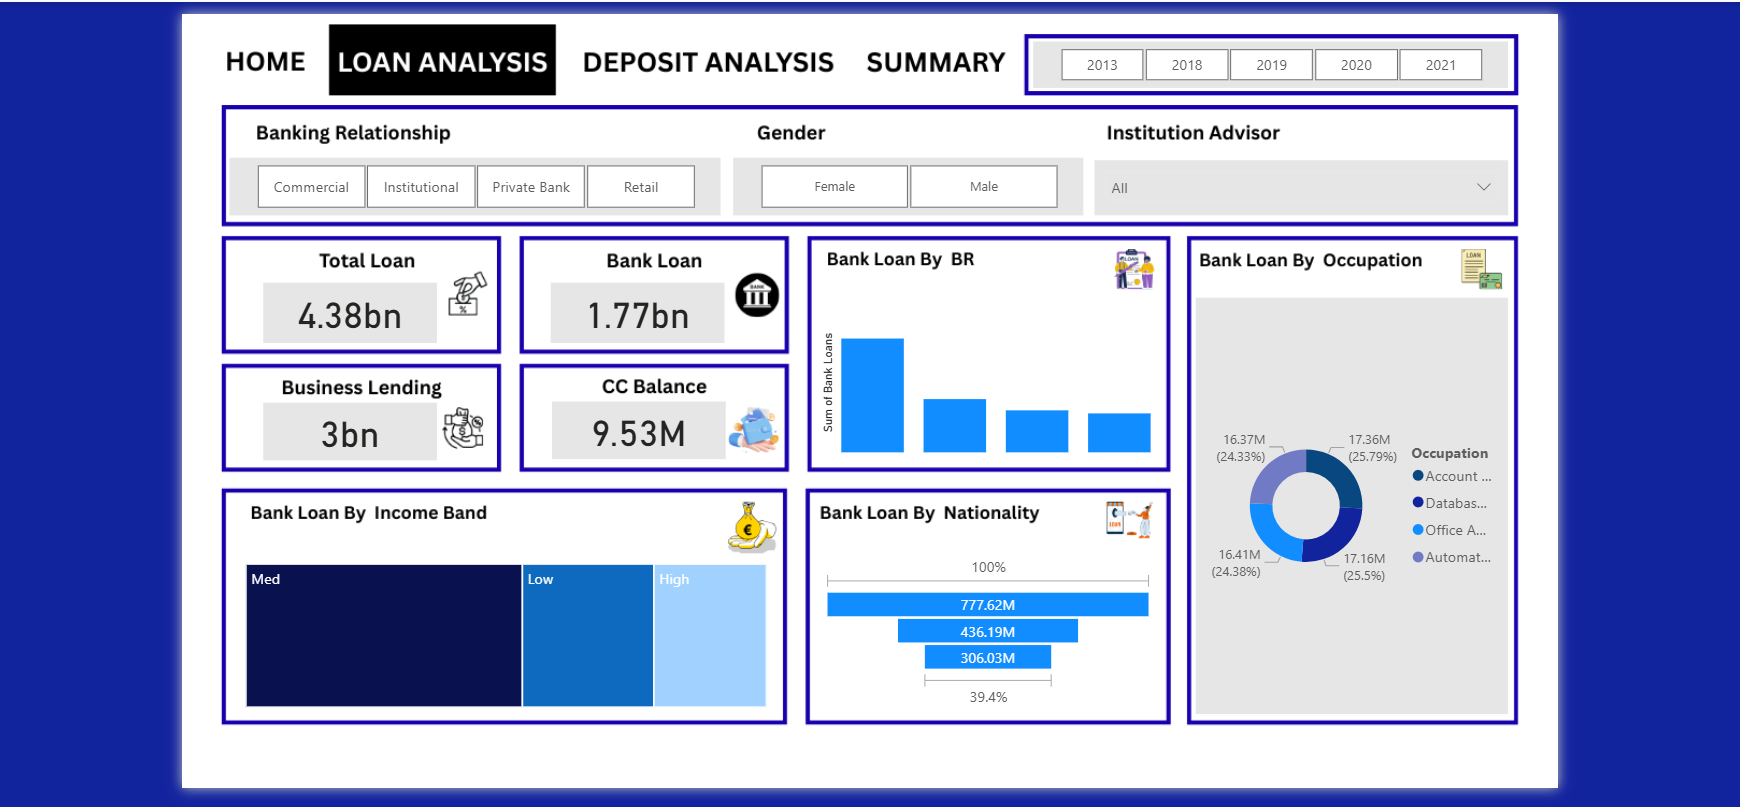

The page's visual inventory and layout, read from the dashboard file:
{"tool":"powerbi","page":{"name":"Loan Analysis","canvas":[1280,720],"ordinal":1},"visuals":[{"type":"slicer","fields":{"Values":["Banking.Year Of Joining"]},"box":[791.3,25.2,441.9,43.2],"z":0},{"type":"actionButton","box":[26.2,24.6,100,40],"z":1000},{"type":"actionButton","box":[629.2,24.6,144.6,40],"z":2000},{"type":"actionButton","box":[369.2,24.6,243.1,40],"z":3000},{"type":"actionButton","box":[142.9,14.3,200,54.3],"z":4000},{"type":"card","fields":{"Values":["Banking.Total Loan"]},"box":[75.6,250,161.6,55.8],"z":5000},{"type":"card","fields":{"Values":["Sum(Banking.Bank Loans)"]},"box":[343,250,161.6,55.8],"z":6000},{"type":"card","fields":{"Values":["Sum(Banking.Credit Card Balance)"]},"box":[344.2,360.5,161.6,53.5],"z":7000},{"type":"card","fields":{"Values":["Sum(Banking.Business Lending)"]},"box":[75.6,361.6,161.6,53.5],"z":8000},{"type":"treemap","fields":{"Group":["Banking.Income Band"],"Values":["Sum(Banking.Bank Loans)"]},"box":[54.7,507,494.2,143],"z":9000},{"type":"clusteredColumnChart","fields":{"Category":["Banking.BRId"],"Y":["Sum(Banking.Bank Loans)"]},"box":[590.7,264,318.6,150],"z":10000},{"type":"funnel","fields":{"Category":["Banking.Nationality"],"Y":["Sum(Banking.Bank Loans)"]},"box":[590.7,497.7,318.6,152.3],"z":10001},{"type":"donutChart","fields":{"Category":["Banking.Occupation"],"Y":["Sum(Banking.Bank Loans)"]},"box":[943,264,290.7,387.2],"z":10002},{"type":"slicer","fields":{"Values":["Banking.BRId"]},"box":[44.2,133.7,457,53.5],"z":10003},{"type":"slicer","fields":{"Values":["Banking.GenderId"]},"box":[512.8,133.7,325.6,53.5],"z":10004},{"type":"slicer","fields":{"Values":["Banking.IAId"]},"box":[848.8,136,384.9,51.2],"z":10005}]}

Visuals, with their boxes on the page's 1280x720 design canvas (x1, y1, x2, y2). These are canvas units, not pixel positions in the 1740x807 screenshot, which may show the page scaled, cropped or inside an application window:
slicer - Banking.Year Of Joining: bbox(791, 25, 1233, 68)
actionButton: bbox(26, 25, 126, 65)
actionButton: bbox(629, 25, 774, 65)
actionButton: bbox(369, 25, 612, 65)
actionButton: bbox(143, 14, 343, 69)
card - Banking.Total Loan: bbox(76, 250, 237, 306)
card - Sum(Banking.Bank Loans): bbox(343, 250, 505, 306)
card - Sum(Banking.Credit Card Balance): bbox(344, 360, 506, 414)
card - Sum(Banking.Business Lending): bbox(76, 362, 237, 415)
treemap - Banking.Income Band x Sum(Banking.Bank Loans): bbox(55, 507, 549, 650)
clusteredColumnChart - Banking.BRId x Sum(Banking.Bank Loans): bbox(591, 264, 909, 414)
funnel - Banking.Nationality x Sum(Banking.Bank Loans): bbox(591, 498, 909, 650)
donutChart - Banking.Occupation x Sum(Banking.Bank Loans): bbox(943, 264, 1234, 651)
slicer - Banking.BRId: bbox(44, 134, 501, 187)
slicer - Banking.GenderId: bbox(513, 134, 838, 187)
slicer - Banking.IAId: bbox(849, 136, 1234, 187)
